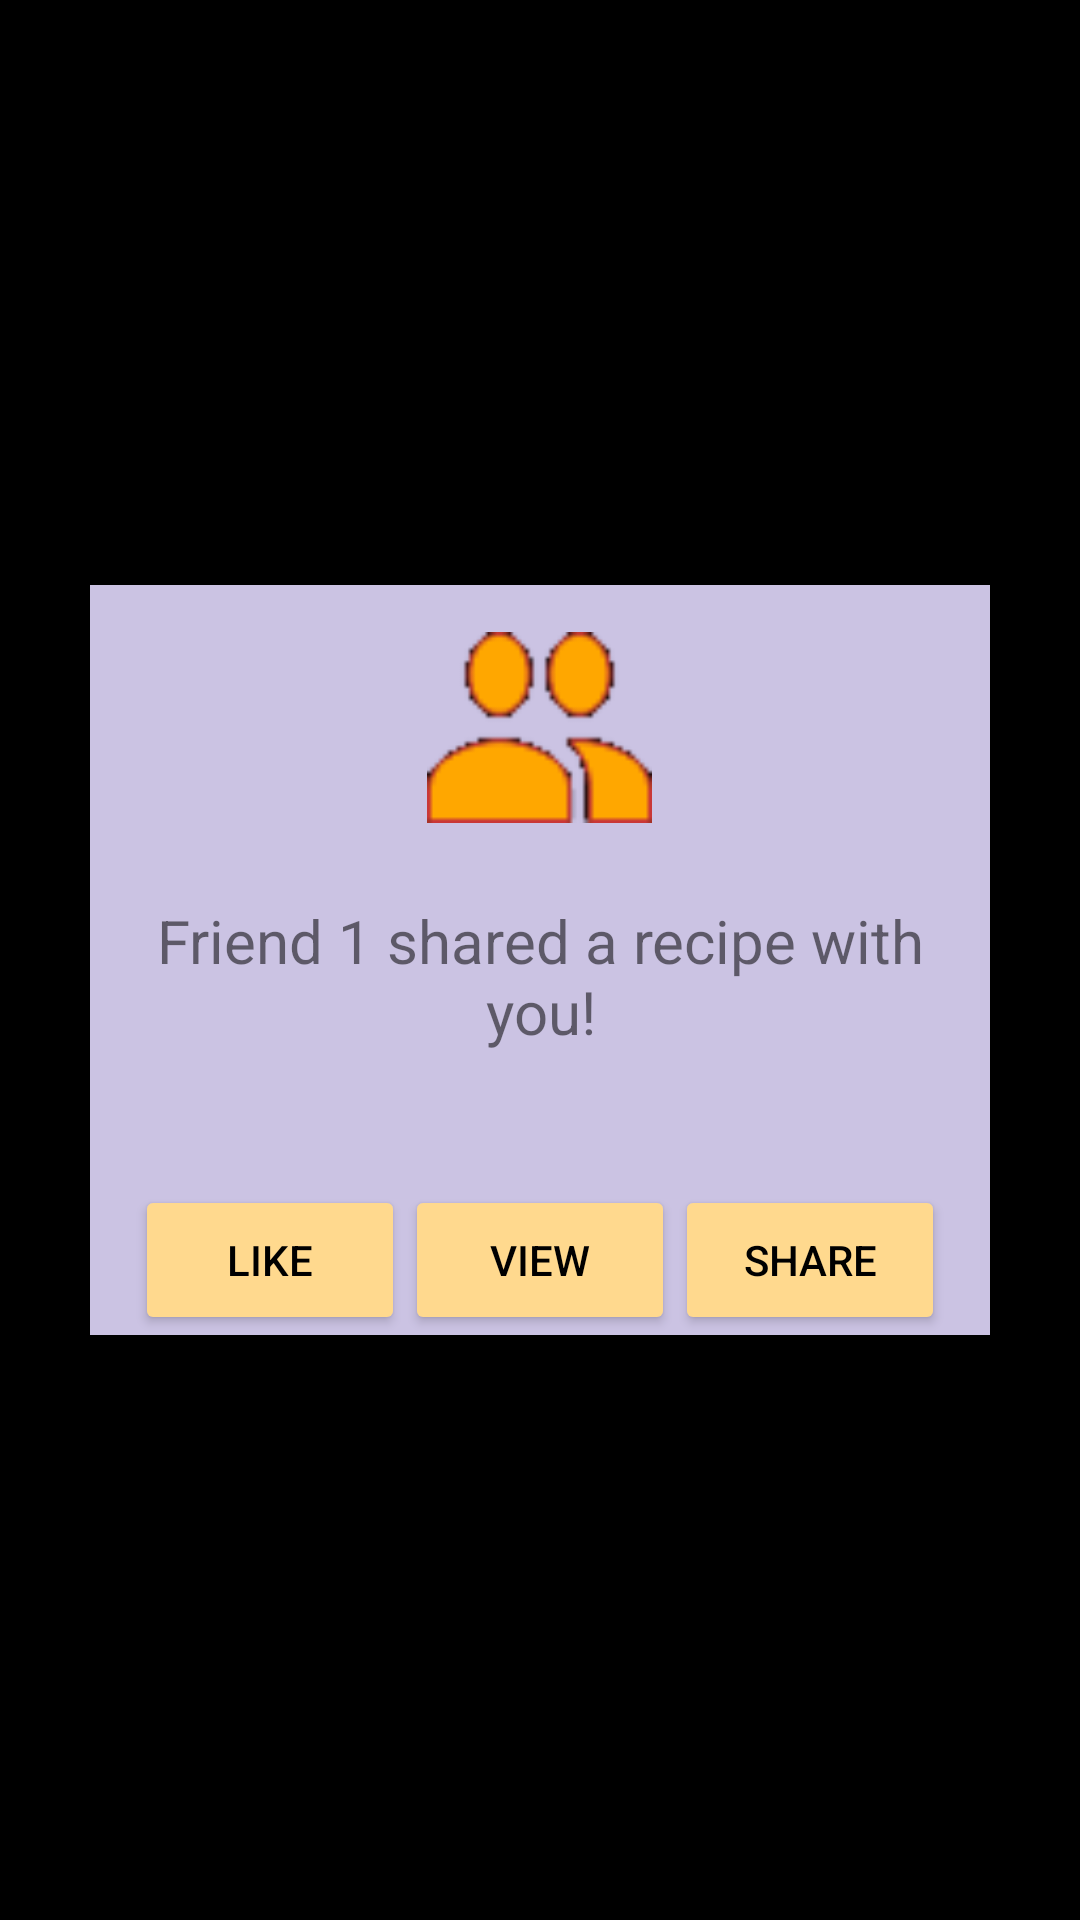

Where icons sit on this 1080px x 1920px app screen, as rect(x1, y1, x2, y2):
socialicon: rect(427, 632, 652, 823)
